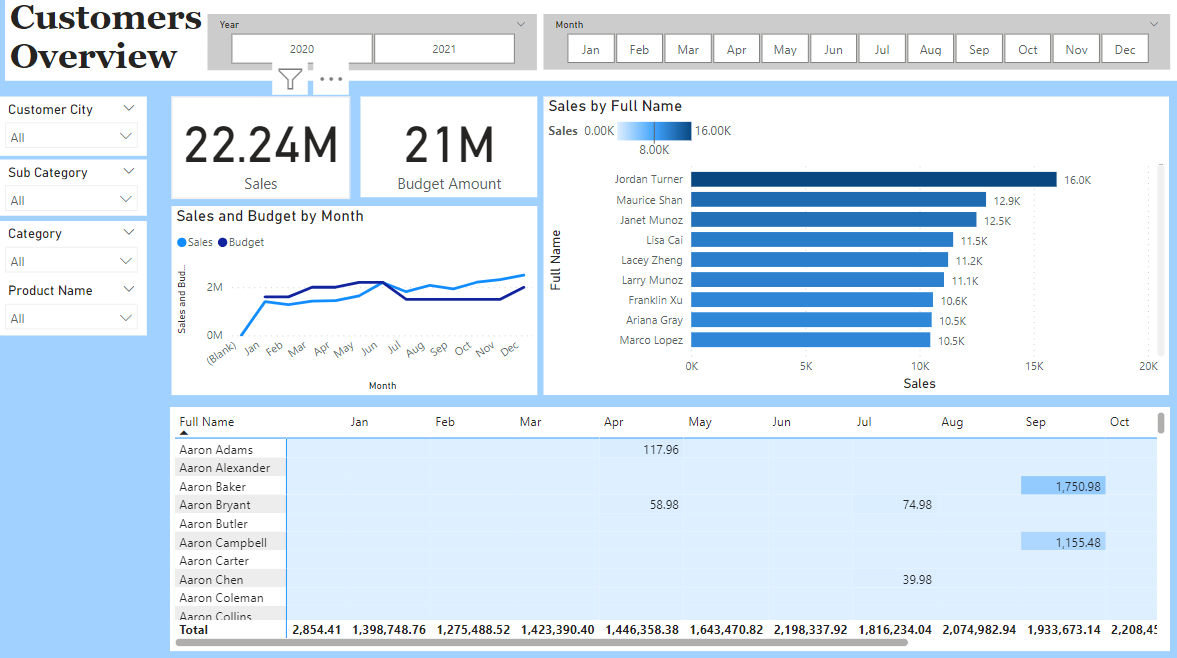

The page's visual inventory and layout, read from the dashboard file:
{"tool":"powerbi","page":{"name":"Customers","canvas":[1280,720],"ordinal":1},"visuals":[{"type":"textbox","box":[9.4,0,1270.6,94.4],"z":0},{"type":"slicer","fields":{"Values":["Customers.Customer City"]},"box":[0,111.4,162.4,64.2],"z":1000},{"type":"slicer","fields":{"Values":["Products.Sub Category"]},"box":[0,179.4,162.4,60.4],"z":2000},{"type":"slicer","fields":{"Values":["Products.Product Category"]},"box":[0,245.4,162.4,62.3],"z":3000},{"type":"slicer","fields":{"Values":["Date.Year"]},"box":[228.5,22.7,355.6,60.5],"z":4000},{"type":"slicer","fields":{"Values":["Date.MonthShort"]},"box":[590.6,22.7,676.3,59.9],"z":5000},{"type":"slicer","fields":{"Values":["Products.Product Name"]},"box":[0,307.7,162.4,62.3],"z":6000},{"type":"lineChart","fields":{"Y":["Sales.Sales","Budget.Budget Amount"],"Category":["Date.MonthShort"]},"box":[189.1,230,394.9,204.3],"z":7000},{"type":"barChart","fields":{"Y":["Sales.Sales"],"Category":["Customers.Full Name"]},"box":[590.6,111.6,674.7,322],"z":8000},{"type":"card","fields":{"Values":["Sales.Sales"]},"box":[189.1,112,192.2,110.4],"z":10000},{"type":"card","fields":{"Values":["Budget.Budget Amount"]},"box":[393.4,112,190.6,108.9],"z":11000},{"type":"pivotTable","fields":{"Rows":["Customers.Full Name"],"Values":["Sales.Sales"],"Columns":["Date.MonthShort"]},"box":[188.3,446.7,1078.3,263.3],"z":12000}]}

Visuals, with their boxes in screenshot pixels (x1, y1, x2, y2), scaled from the page's 1280x720 canvas onto the 1177x658 screenshot:
textbox: 9/0/1176/86
slicer - Customers.Customer City: 0/102/149/160
slicer - Products.Sub Category: 0/164/149/219
slicer - Products.Product Category: 0/224/149/281
slicer - Date.Year: 210/21/537/76
slicer - Date.MonthShort: 543/21/1165/75
slicer - Products.Product Name: 0/281/149/338
lineChart - Sales.Sales x Budget.Budget Amount: 174/210/537/397
barChart - Sales.Sales x Customers.Full Name: 543/102/1163/396
card - Sales.Sales: 174/102/351/203
card - Budget.Budget Amount: 362/102/537/202
pivotTable - Customers.Full Name x Sales.Sales: 173/408/1165/649
